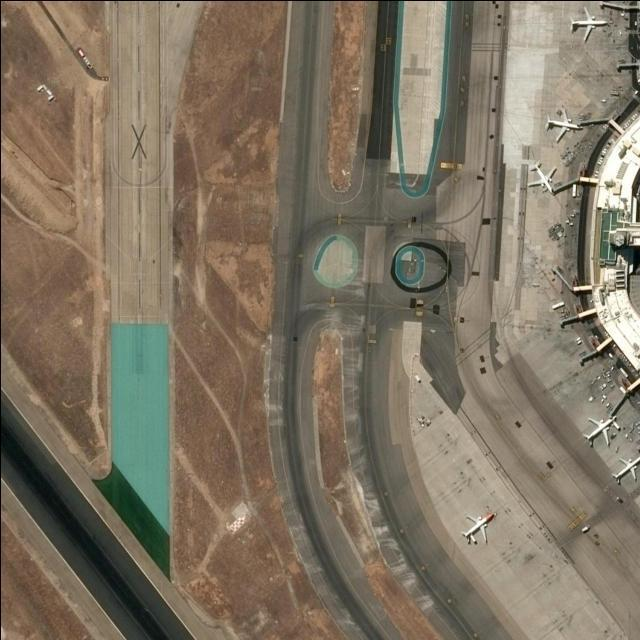Aircraft: (566, 7, 610, 43), (463, 507, 497, 544), (545, 110, 581, 144), (583, 414, 620, 446), (526, 159, 558, 196), (611, 455, 640, 485)
